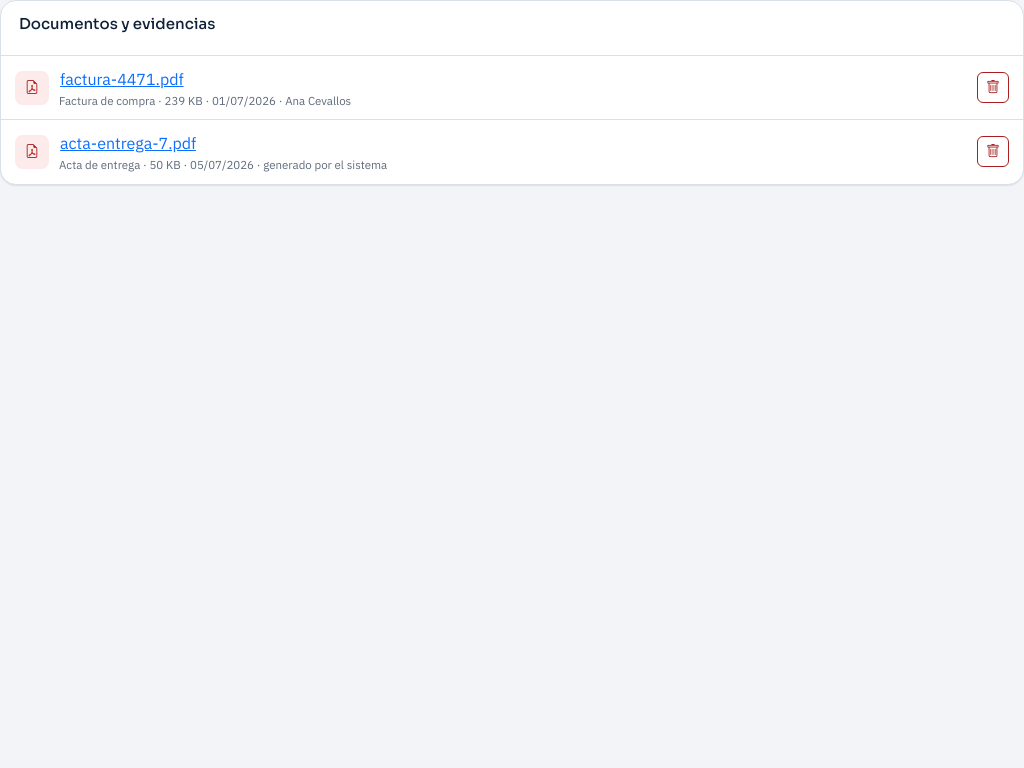
Los documentos del activo › borrar dice que el archivo no se recupera
Expected: the button "factura-4471.pdf" is shown, [59, 66, 185, 92]
What coordinates should you click on to do the following:
click the button named "Eliminar factura-4471.pdf"
I would click on:
 (993, 88)
Its box is [977, 72, 1009, 103].
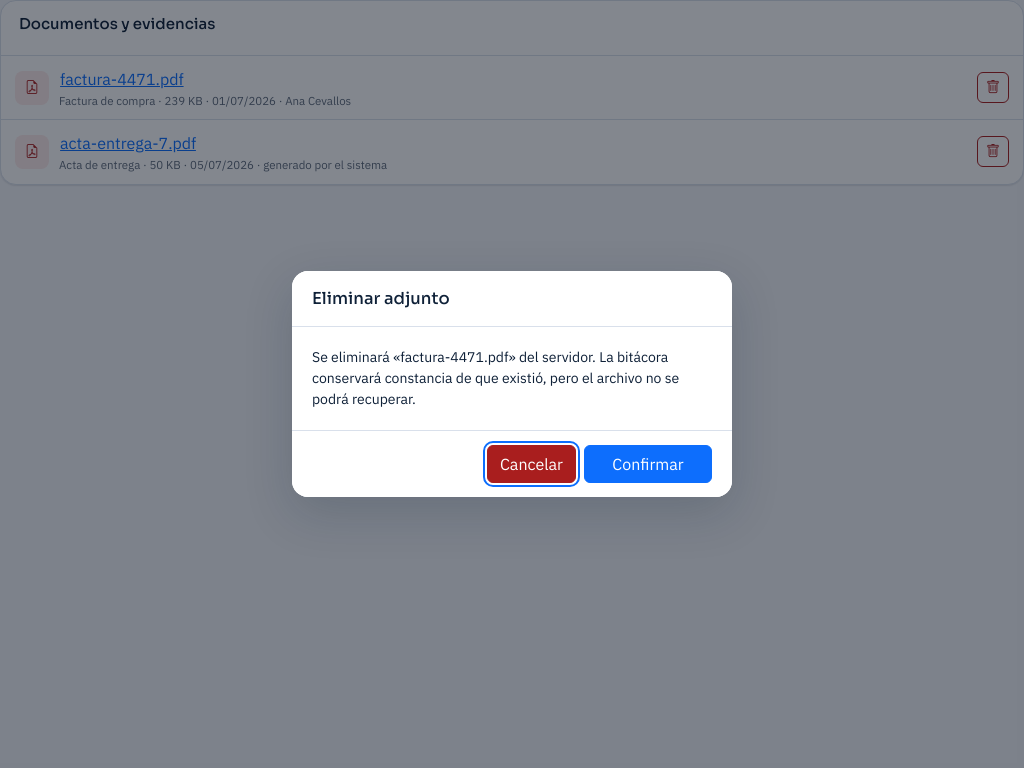
Now the text "Se eliminará «factura-4471.pdf»" shows "no se podrá recuperar", box [312, 348, 679, 408]
